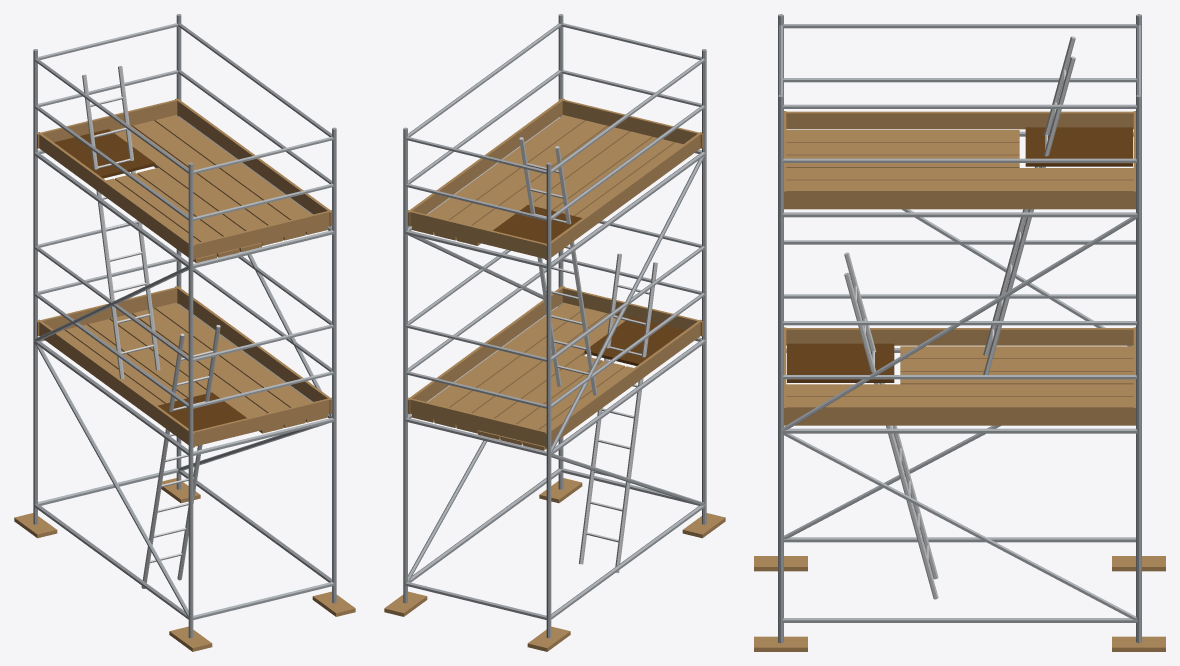
File: plant.access.stair_tower_2.glb
3 renders of one model, left to right at view 1: azimuth 30°, elevation 25°; view 2: azimuth 150°, elevation 25°; view 3: azimuth 270°, elevation 25°, orthographic. The views are drawn at different scales.
Visible parts, largest first — view 1: decks__softwood, frame__steel_galvanised, ladders__aluminium, decks__ply_brown, frame__softwood; view 2: decks__softwood, frame__steel_galvanised, ladders__aluminium, decks__ply_brown, frame__softwood; view 3: decks__softwood, frame__steel_galvanised, decks__ply_brown, ladders__aluminium, frame__softwood.
Part boxes in pixels (x1,y1,x2,y2): decks__softwood: (37, 98, 332, 447); frame__steel_galvanised: (33, 14, 336, 638); ladders__aluminium: (82, 66, 220, 588); decks__ply_brown: (54, 129, 246, 431); frame__softwood: (14, 478, 355, 651); decks__softwood: (407, 98, 702, 450); frame__steel_galvanised: (403, 14, 706, 638); ladders__aluminium: (519, 137, 657, 573); decks__ply_brown: (493, 205, 685, 365); frame__softwood: (384, 478, 725, 651); decks__softwood: (784, 111, 1135, 425); frame__steel_galvanised: (778, 14, 1141, 643); decks__ply_brown: (787, 127, 1132, 382); ladders__aluminium: (844, 36, 1075, 599); frame__softwood: (754, 556, 1165, 651).
Bounding box in the file's own units: 1.82 × 5.11 × 3.45.
